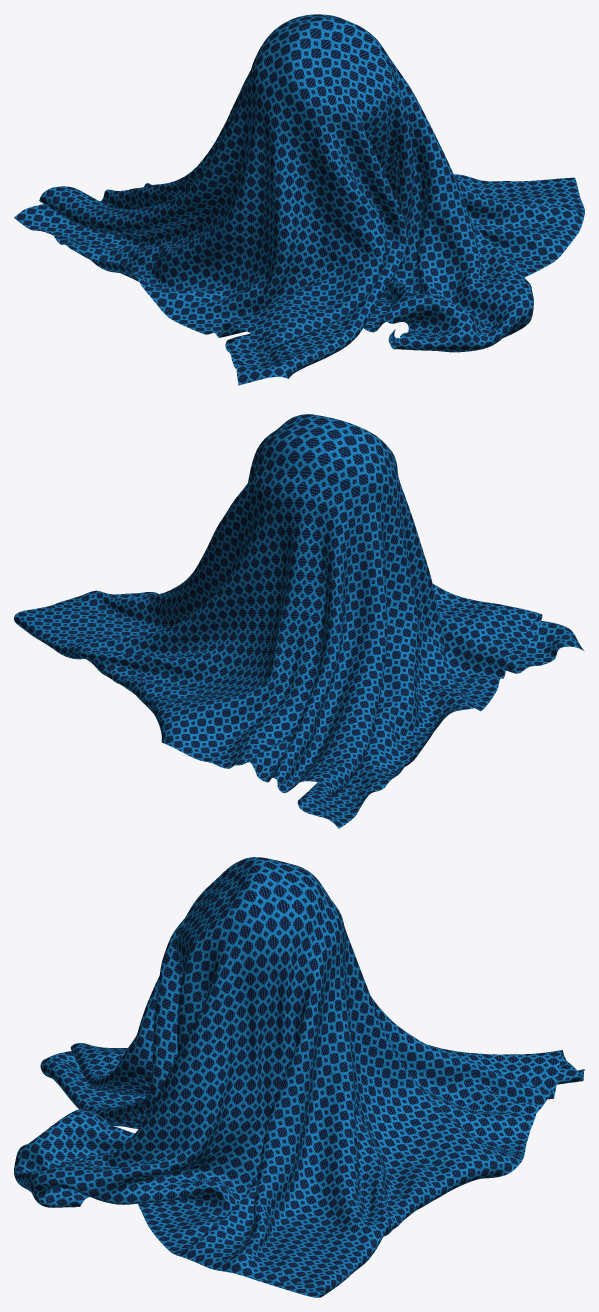
The model's file is SheenCloth.gltf.
3 renders of one model, top to bottom at view 1: azimuth 30°, elevation 25°; view 2: azimuth 150°, elevation 25°; view 3: azimuth 270°, elevation 25°, orthographic. The views are drawn at different scales.
Parts seen in each view (by area): view 1: SheenCloth_mesh; view 2: SheenCloth_mesh; view 3: SheenCloth_mesh.
Part boxes in pixels (x1,y1,x2,y2): SheenCloth_mesh: (14,14,584,385); SheenCloth_mesh: (14,414,584,828); SheenCloth_mesh: (14,857,584,1297).
Bounding box in the file's own units: 0.0721 × 0.0403 × 0.0713.
1 material, 1 textured.
